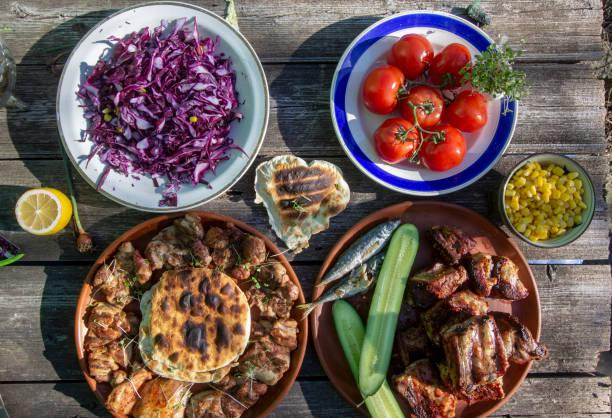Braised Crucian Carp: (314, 200, 537, 415), (77, 211, 303, 415), (57, 2, 264, 212), (331, 10, 516, 196)
